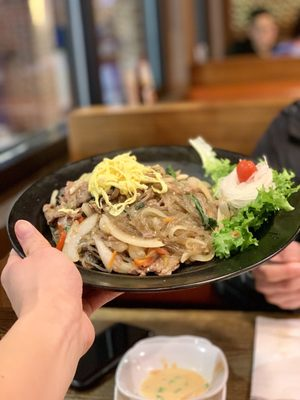curry: (188, 136, 299, 261), (210, 164, 300, 261)
sushi: (114, 335, 230, 400)
